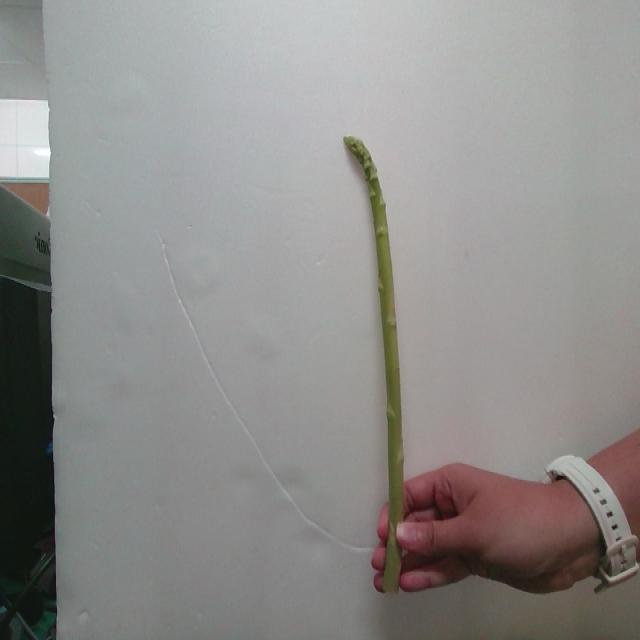aspargus: (345, 137, 407, 597)
